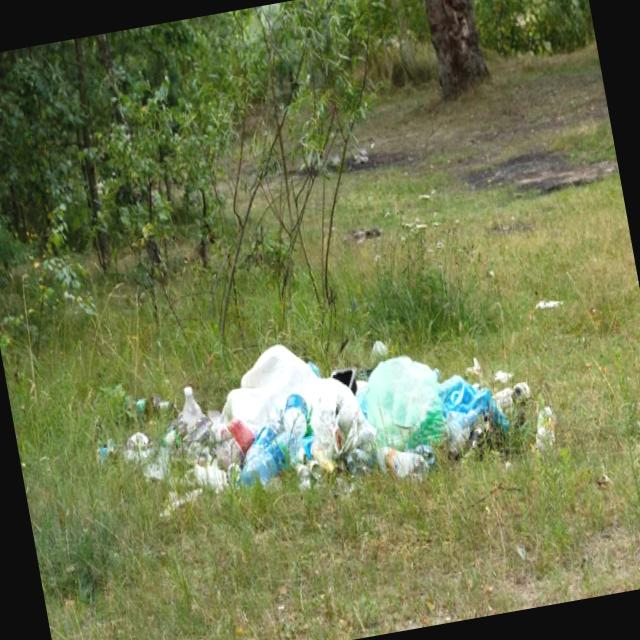garbage: (88, 298, 528, 588)
